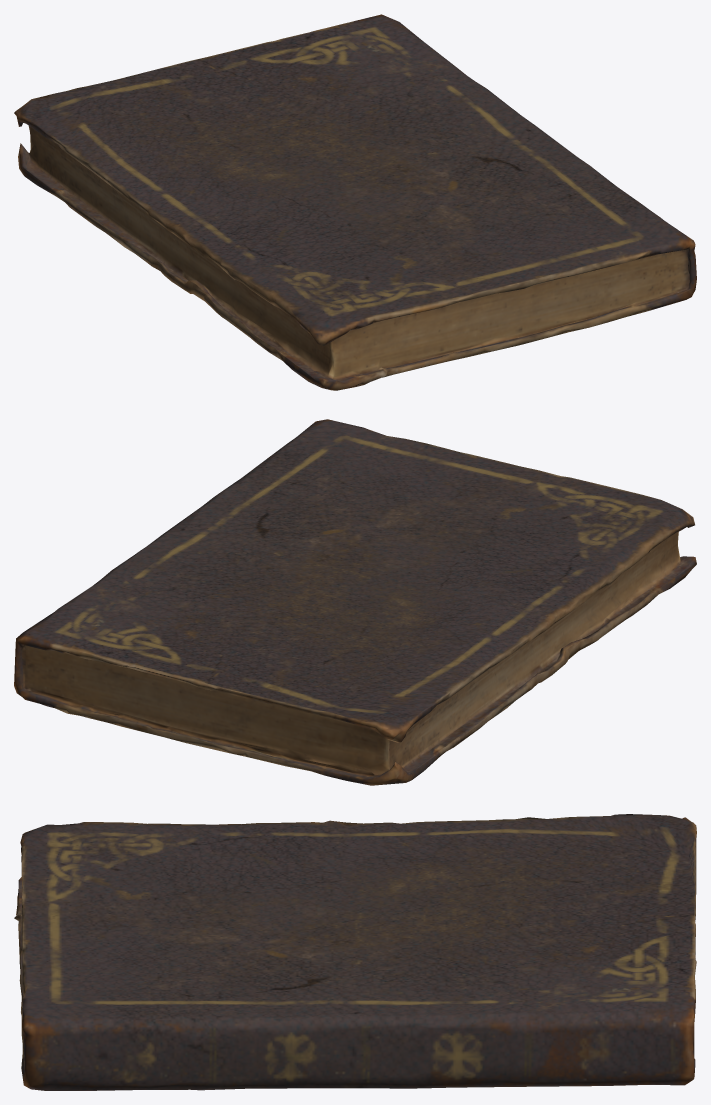
Rendered from SM_Prop_Book_D.fbx.
3 views of the same model, one above another, from view 1: azimuth 30°, elevation 25°; view 2: azimuth 150°, elevation 25°; view 3: azimuth 270°, elevation 25° (orthographic). The views are drawn at different scales.
Visible parts, largest first — view 1: SM_Prop_Book_D_LOD0; view 2: SM_Prop_Book_D_LOD0; view 3: SM_Prop_Book_D_LOD0.
Part boxes in pixels (x1,y1,x2,y2): SM_Prop_Book_D_LOD0: (14,14,696,390); SM_Prop_Book_D_LOD0: (14,419,696,785); SM_Prop_Book_D_LOD0: (14,814,696,1090).
Bounding box in the file's own units: 26.75 × 36.93 × 4.69.
1 material, 1 textured.
